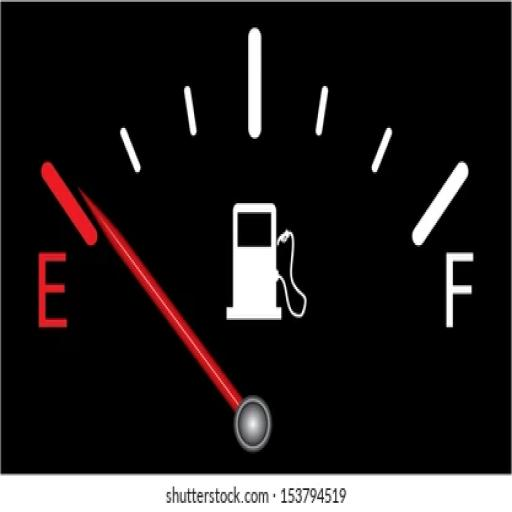empty: (35, 248, 68, 330)
fuel_icon: (227, 201, 306, 321)
full: (442, 247, 474, 328)
guage_area: (11, 22, 480, 462)
needle_center: (225, 387, 275, 454)
needle_tip: (76, 181, 116, 242)
